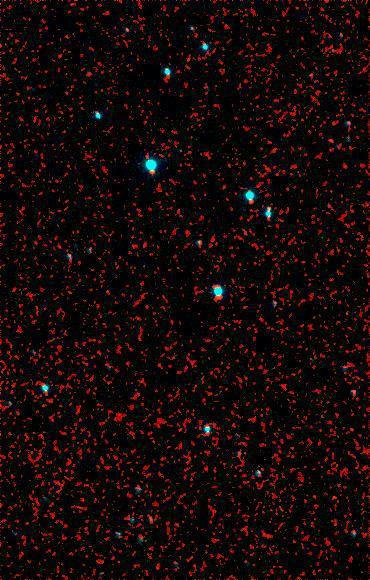star: (319, 123, 349, 153)
